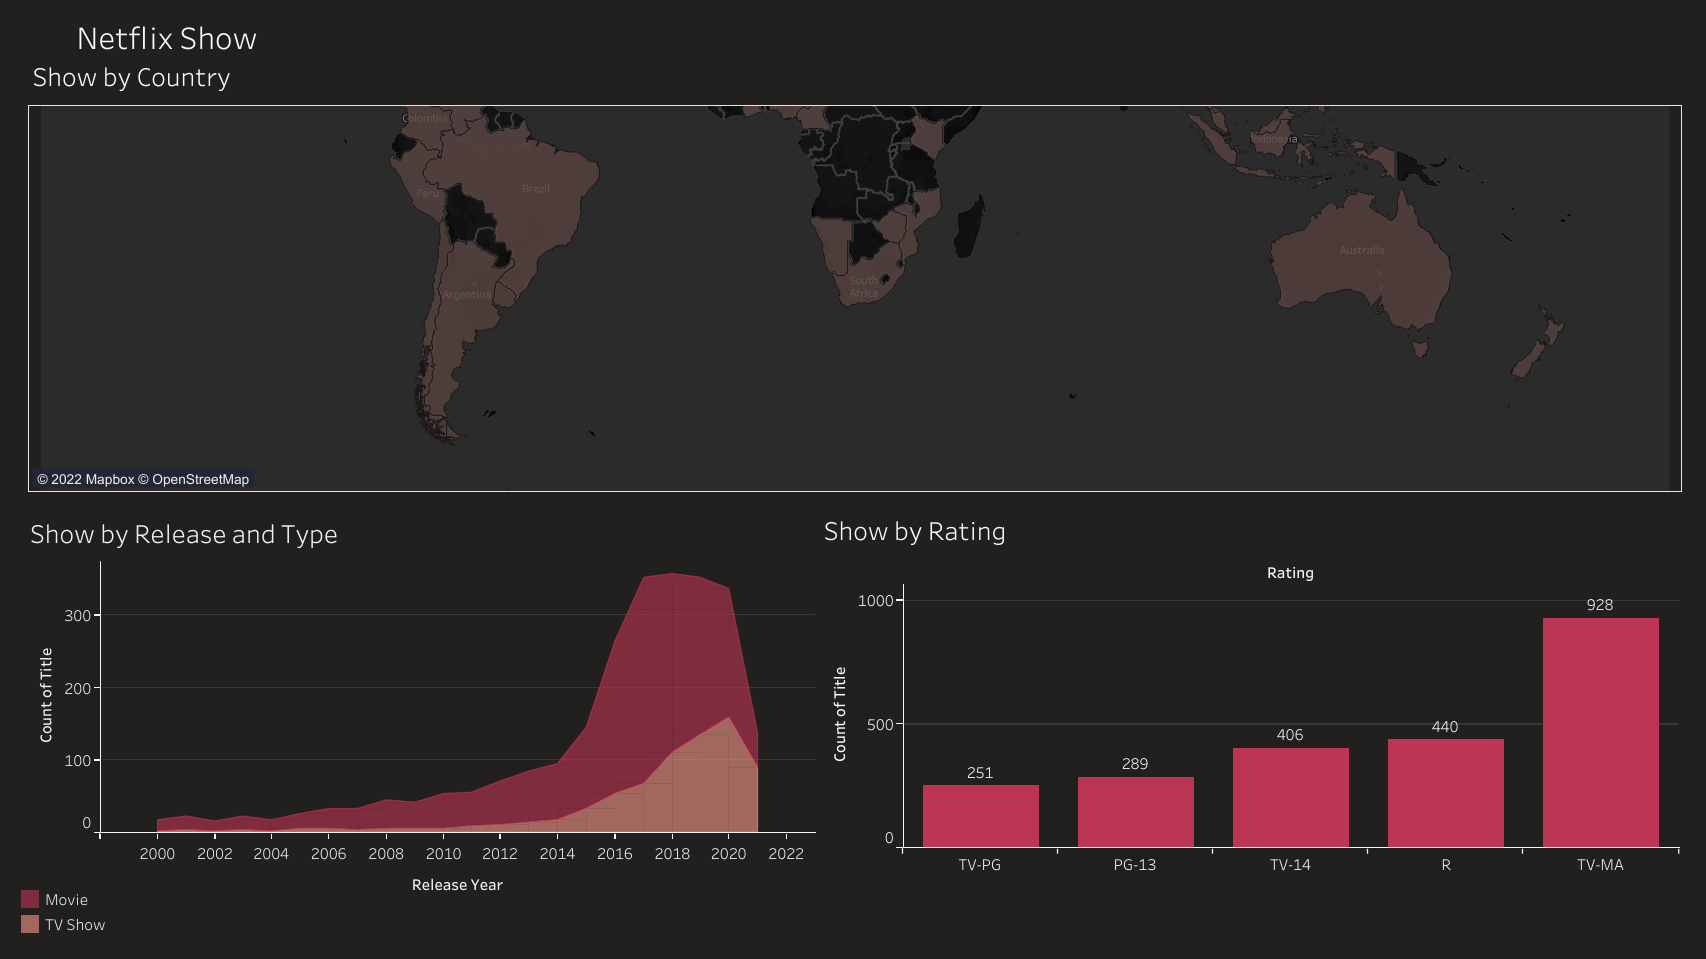

What the dashboard file says about the page in this screenshot:
{"tool":"tableau","page":{"name":"Netflix Show","canvas":[1366,768],"ordinal":0},"visuals":[{"type":"image","box":[11.7,0,37.3,40.8]},{"type":"title","box":[8,8,1350,42]},{"type":"worksheet","title":"Show by Country","mark":"Multipolygon","box":[22.4,41.4,1323.3,352.8]},{"type":"dashboard-object","box":[1041.6,270.9,25.6,25.6]},{"type":"legend","title":"Show by Country","param":"[federated.1fz71cm1sc81p51d7chvw0gp6t2x].[cnt:title:qk]","box":[21.4,343.8,182.5,36.6]},{"type":"worksheet","title":"Show by Rating","mark":"Bar","rows":["title"],"cols":["rating"],"box":[655.3,403.8,687.3,295.8]},{"type":"worksheet","title":"Show by Release and Type ","mark":"Area","rows":["title"],"cols":["release_year"],"box":[19.9,406.2,632,316.8]}]}

Visuals, with their boxes in screenshot pixels (x1, y1, x2, y2), scaled from the page's 1366x768 canvas onto the 1706x959 screenshot:
image: box(15, 0, 61, 51)
title: box(10, 10, 1696, 62)
"Show by Country" worksheet (Multipolygon marks): box(28, 52, 1681, 492)
dashboard-object: box(1301, 338, 1333, 370)
"Show by Country" legend: box(27, 429, 255, 475)
"Show by Rating" worksheet (Bar marks): box(818, 504, 1677, 874)
"Show by Release and Type " worksheet (Area marks): box(25, 507, 814, 903)
